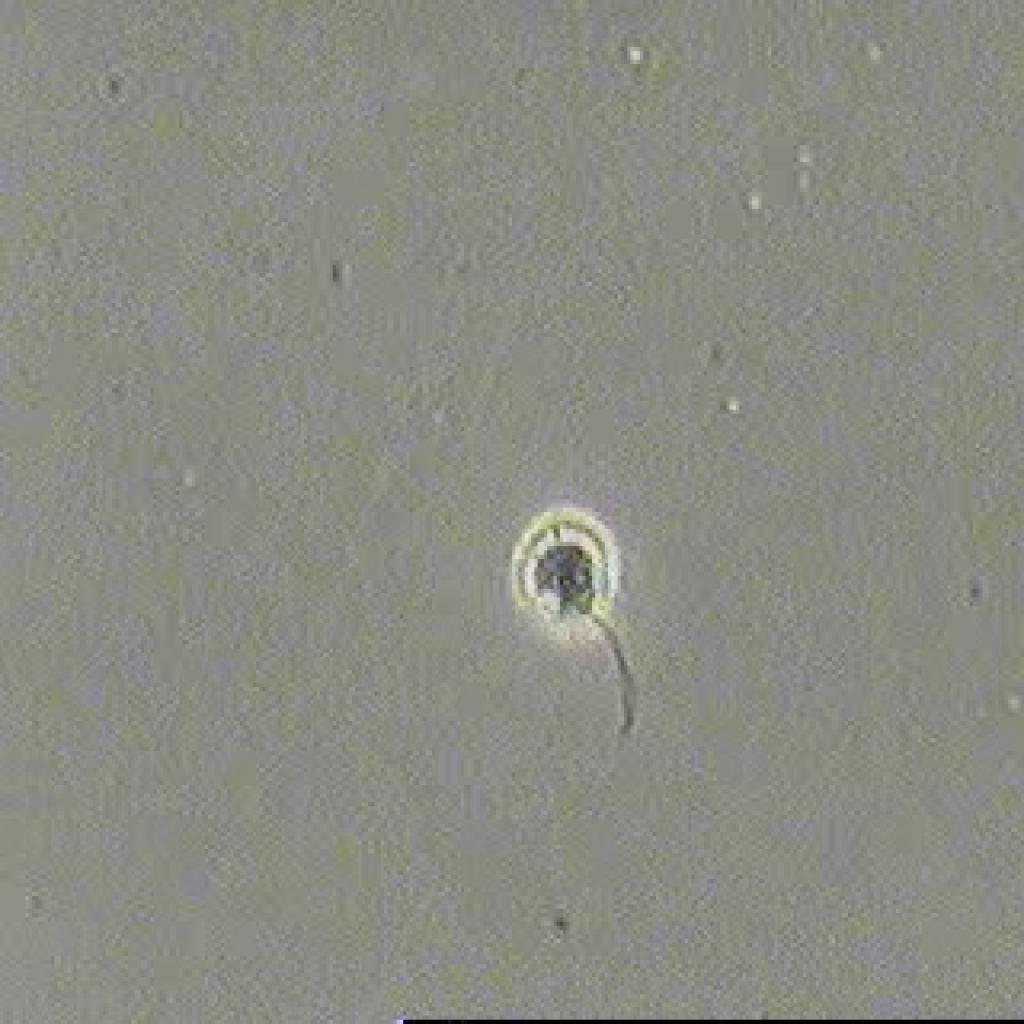Flagellates: (506, 495, 675, 776)
